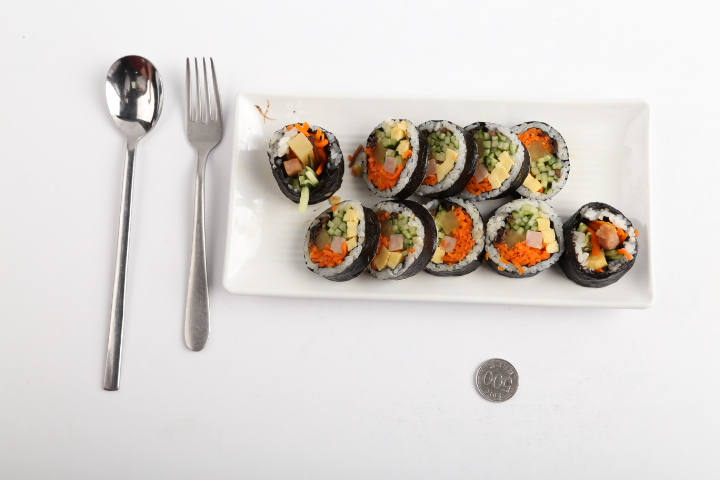dish: (221, 91, 652, 309)
ref_coin: (476, 358, 519, 403)
ref_fork: (185, 56, 223, 156)
ref_spoon: (105, 54, 164, 146)
김밥: (266, 120, 639, 288)
